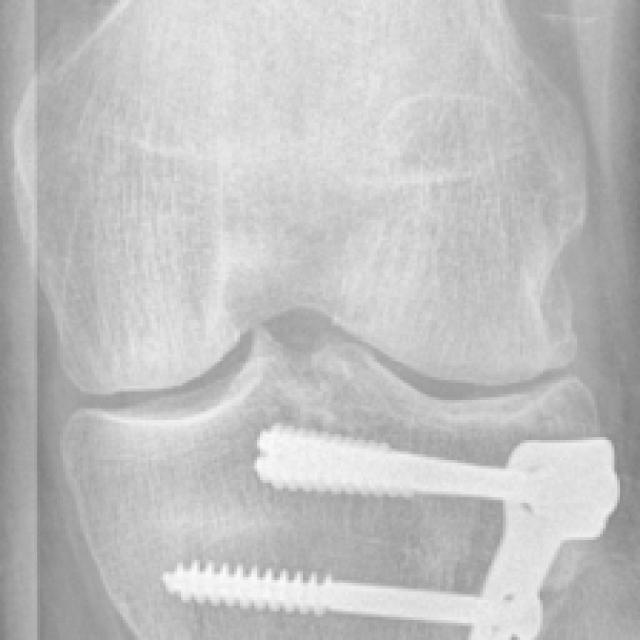femur: (11, 0, 588, 395)
tibia: (63, 325, 620, 640)
